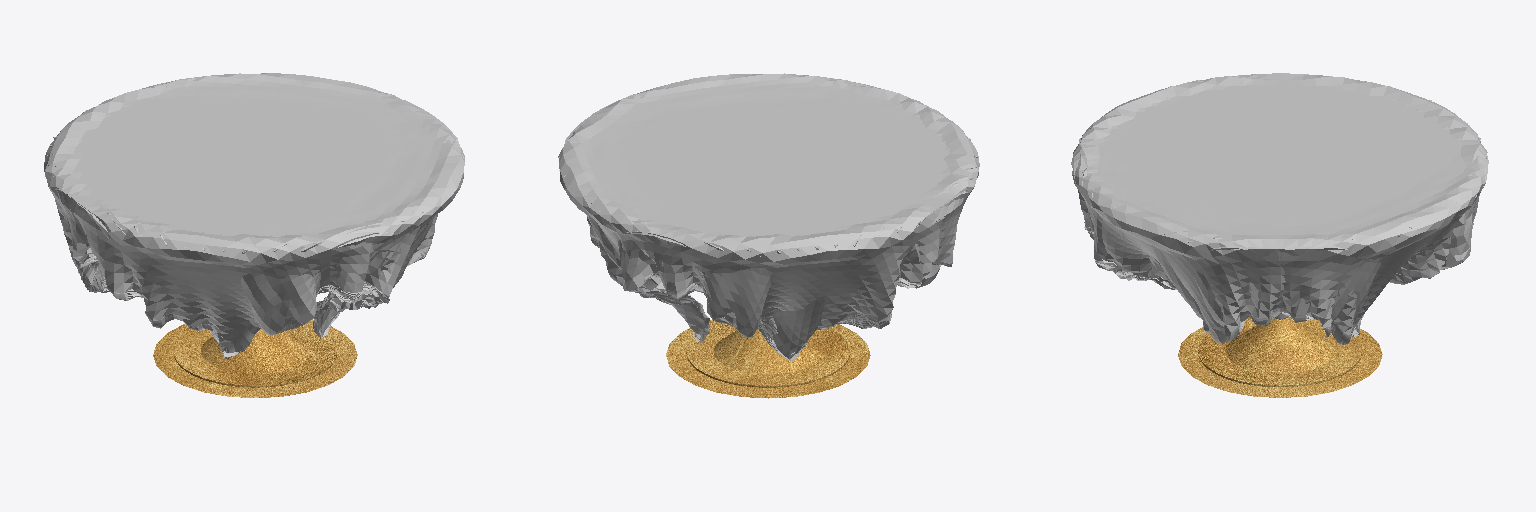
3 renders of one model, left to right at view 1: azimuth 30°, elevation 25°; view 2: azimuth 150°, elevation 25°; view 3: azimuth 270°, elevation 25°, orthographic.
Size of the model in its own units: 406 by 215 by 408.
3 materials, 1 textured.